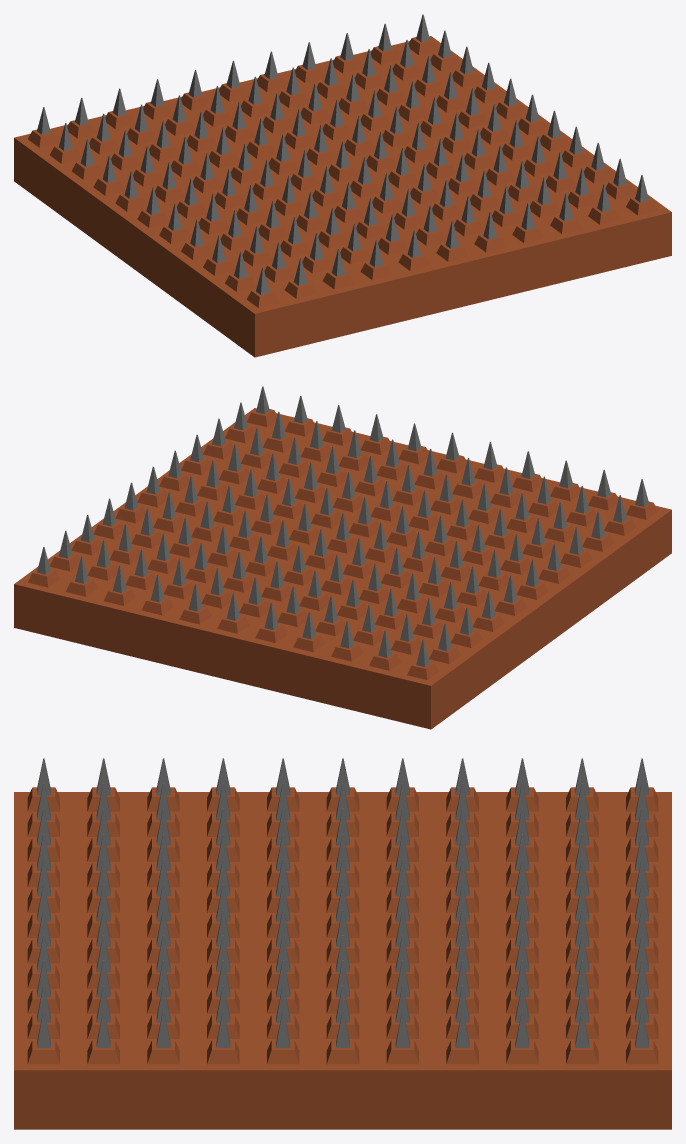
Rendered from Spikes.fbx.
The picture shows the model from 3 angles, top to bottom: view 1: azimuth 30°, elevation 25°; view 2: azimuth 150°, elevation 25°; view 3: azimuth 270°, elevation 25°; orthographic projection. The views are drawn at different scales.
Parts seen in each view (by area): view 1: Spikes Base, Spikes; view 2: Spikes Base, Spikes; view 3: Spikes Base, Spikes.
Part boxes in pixels (x1,y1,x2,y2): Spikes Base: (14,36,671,357); Spikes: (37,14,648,294); Spikes Base: (14,408,671,729); Spikes: (37,386,648,666); Spikes Base: (14,787,671,1129); Spikes: (37,758,648,1047).
Bounding box in the file's own units: 1200 × 213 × 1200.
